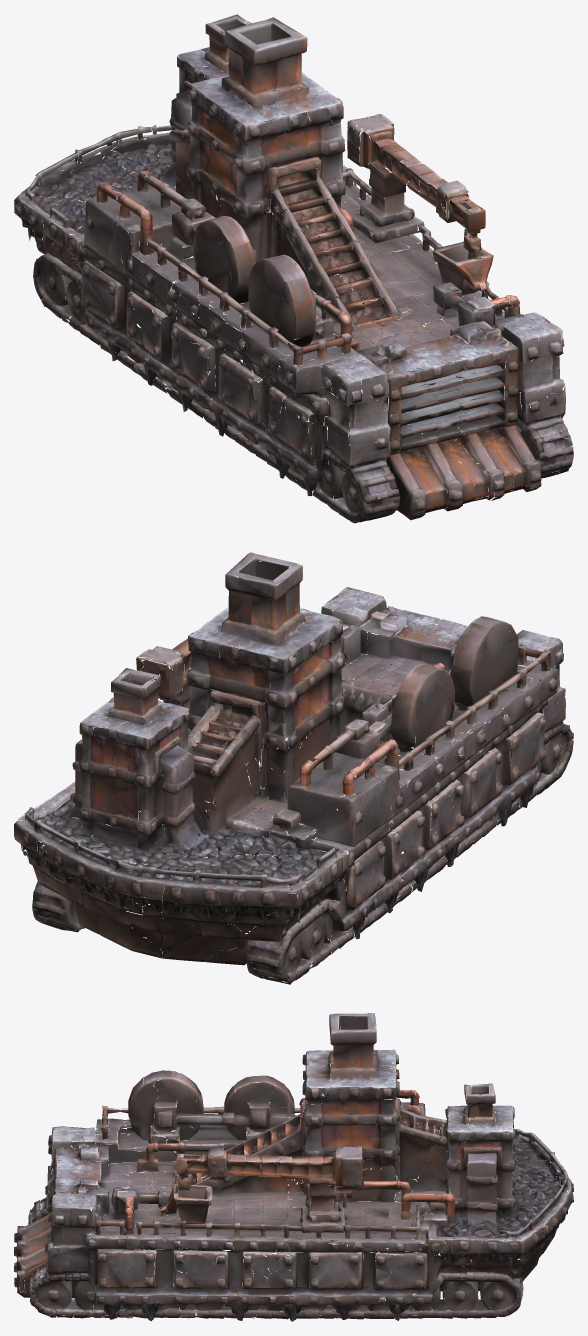
File: ashwright.glb
3 renders of one model, top to bottom at view 1: azimuth 30°, elevation 25°; view 2: azimuth 150°, elevation 25°; view 3: azimuth 270°, elevation 25°, orthographic. The views are drawn at different scales.
Parts seen in each view (by area): view 1: tripo_node_1ddfac94-8449-4949-ae88-ce9533c4de49; view 2: tripo_node_1ddfac94-8449-4949-ae88-ce9533c4de49; view 3: tripo_node_1ddfac94-8449-4949-ae88-ce9533c4de49.
Boxes of the visible parts, <box> form: tripo_node_1ddfac94-8449-4949-ae88-ce9533c4de49: <box>14,14,573,523</box>; tripo_node_1ddfac94-8449-4949-ae88-ce9533c4de49: <box>14,552,573,984</box>; tripo_node_1ddfac94-8449-4949-ae88-ce9533c4de49: <box>14,1013,573,1321</box>.
Bounding box in the file's own units: 0.4619 × 0.4944 × 0.9781.
Materials: 1 (1 with a texture image).
